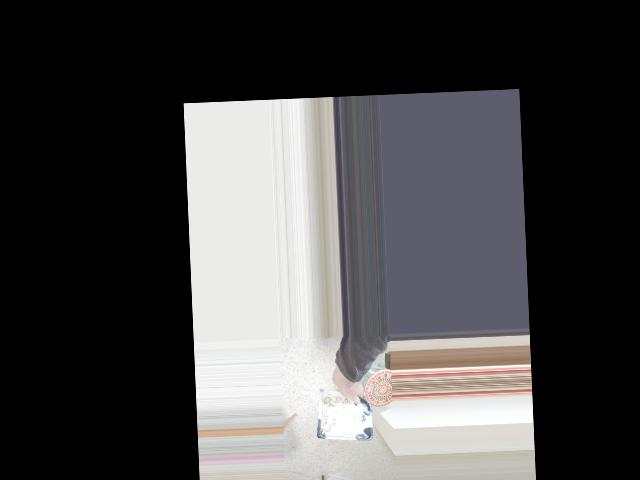cheese: (315, 367, 373, 431)
